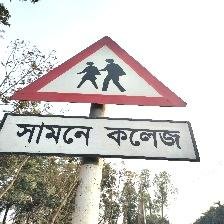College-in-front: (0, 28, 210, 168)
